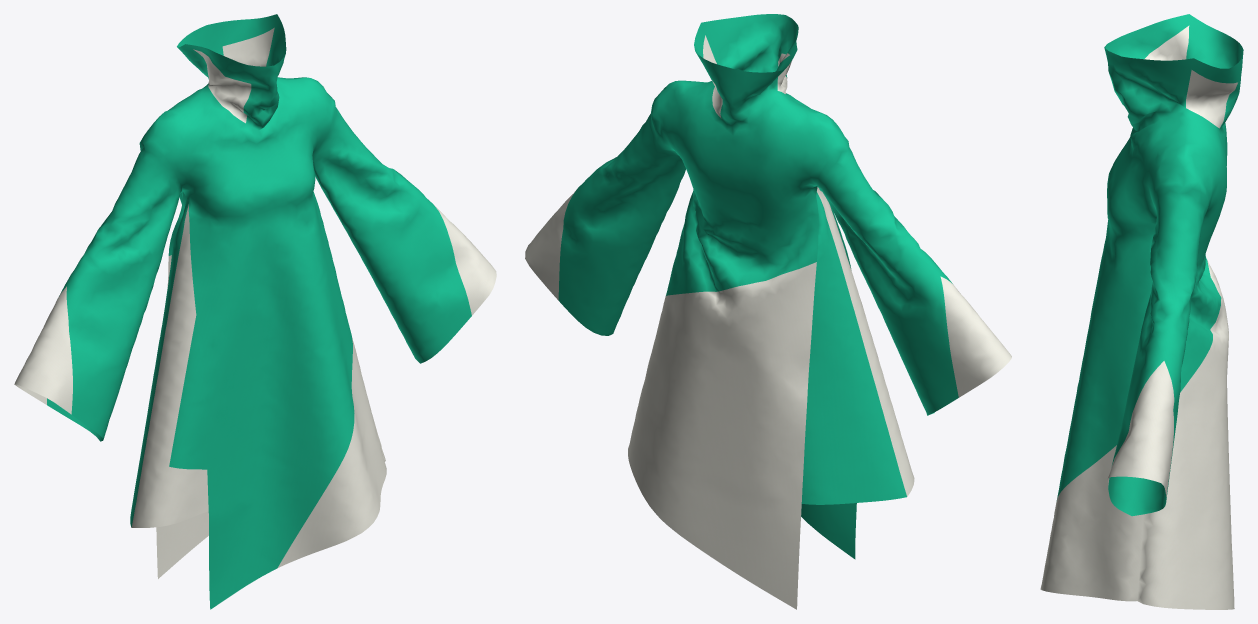
Rendered from Colt.glb.
3 views of the same model, side by side, from view 1: azimuth 30°, elevation 25°; view 2: azimuth 150°, elevation 25°; view 3: azimuth 270°, elevation 25° (orthographic). The views are drawn at different scales.
Parts seen in each view (by area): view 1: Cloth; view 2: Cloth; view 3: Cloth.
Boxes of the visible parts, <box> form: Cloth: <box>14,14,496,609</box>; Cloth: <box>525,14,1011,609</box>; Cloth: <box>1040,14,1243,609</box>.
Bounding box in the file's own units: 115 × 126 × 38.39.
Materials: 16 (16 with a texture image).
